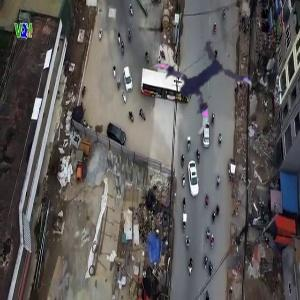drone: (148, 38, 245, 135)
